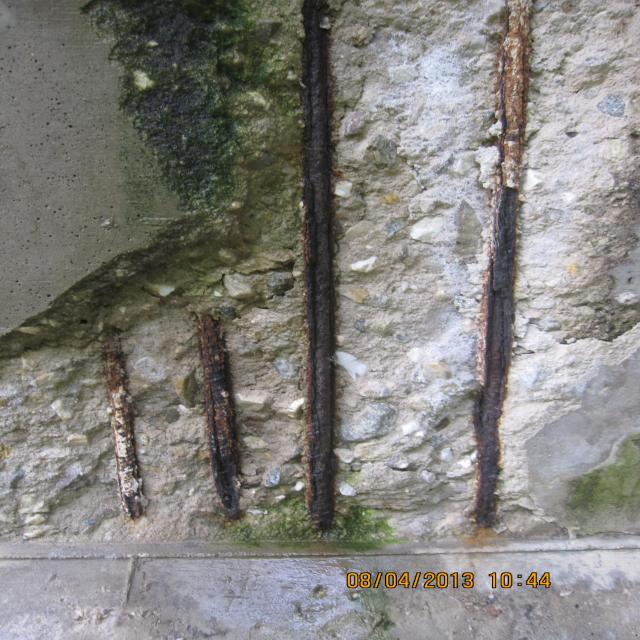corrosion: (467, 0, 543, 550), (285, 0, 346, 553), (186, 300, 262, 522), (81, 317, 162, 522)
